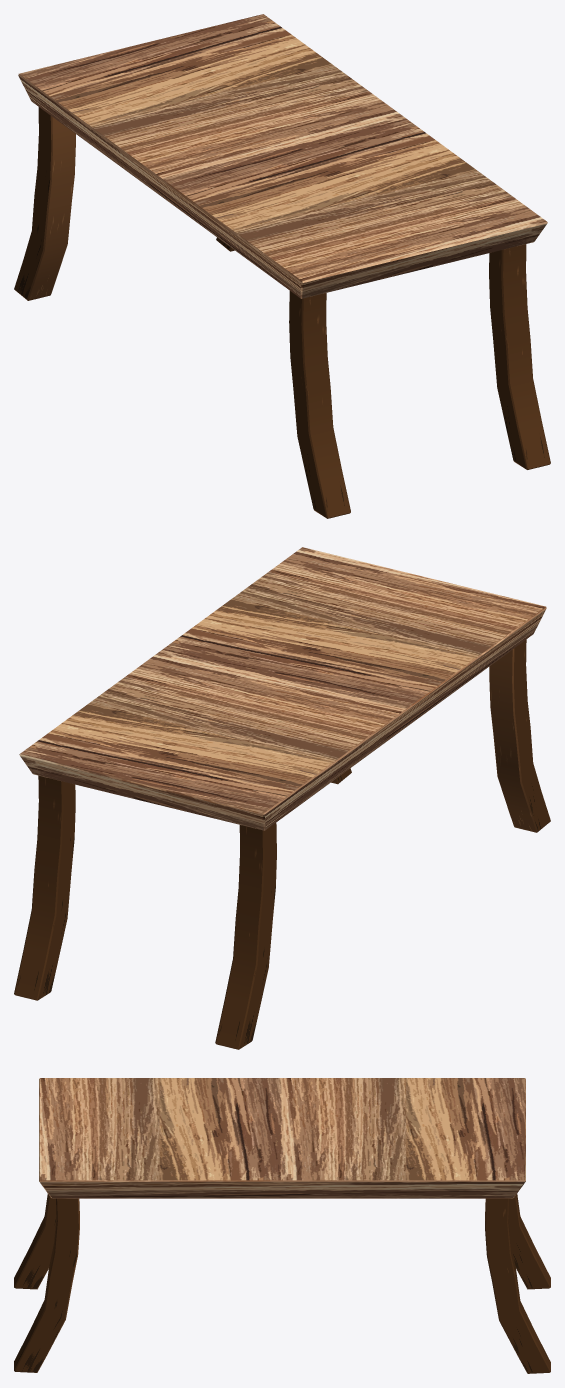
File: kitchen table.fbx
The picture shows the model from 3 angles, top to bottom: view 1: azimuth 30°, elevation 25°; view 2: azimuth 150°, elevation 25°; view 3: azimuth 270°, elevation 25°; orthographic projection. The views are drawn at different scales.
Visible parts, largest first — view 1: pCube1, table_leg_new2, table_leg_new3, table_leg_new1; view 2: pCube1, table_leg_new1, table_leg_new, table_leg_new2; view 3: pCube1, table_leg_new, table_leg_new3, table_leg_new1, table_leg_new2.
Boxes of the visible parts, bbox=[...] form: pCube1: bbox=[18, 14, 547, 298]; table_leg_new2: bbox=[289, 291, 350, 518]; table_leg_new3: bbox=[489, 244, 550, 469]; table_leg_new1: bbox=[14, 107, 75, 300]; pCube1: bbox=[19, 547, 546, 830]; table_leg_new1: bbox=[215, 823, 276, 1049]; table_leg_new: bbox=[14, 775, 75, 1000]; table_leg_new2: bbox=[489, 639, 550, 832]; pCube1: bbox=[39, 1078, 525, 1198]; table_leg_new: bbox=[485, 1198, 550, 1373]; table_leg_new3: bbox=[14, 1198, 79, 1372]; table_leg_new1: bbox=[508, 1194, 550, 1289]; table_leg_new2: bbox=[14, 1193, 56, 1289].
Bounding box in the file's own units: 9.97 × 8.93 × 21.99.
